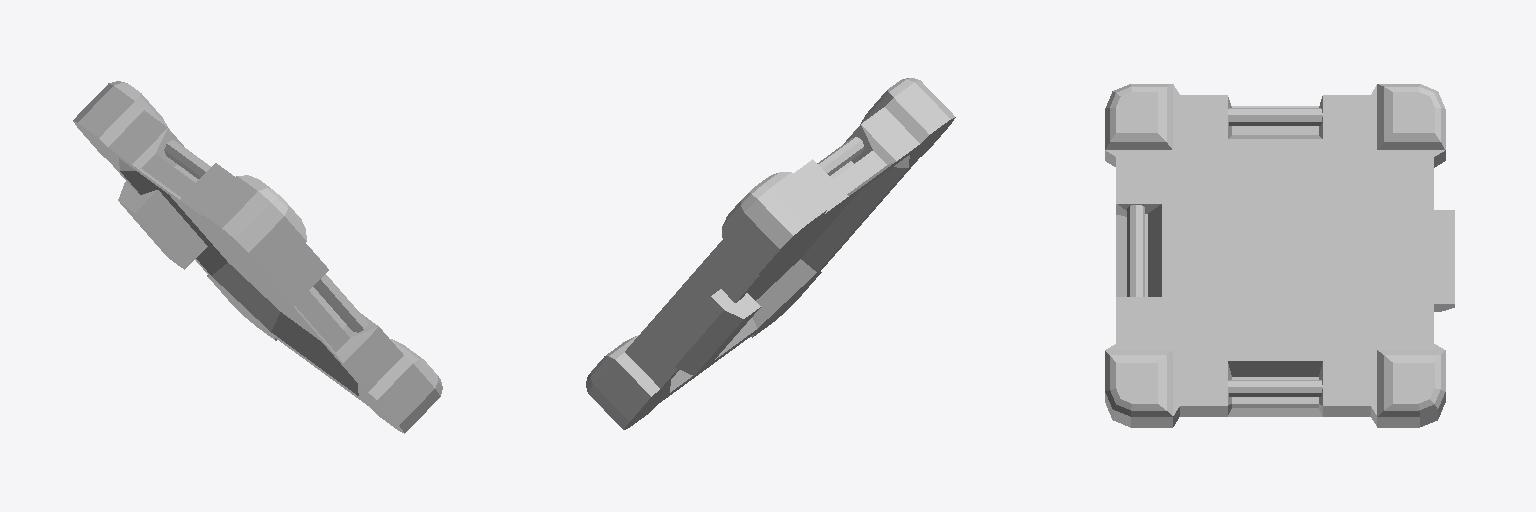
Rendered from Lootbox_Top_Cube_002.obj.
3 views of the same model, side by side, from view 1: azimuth 30°, elevation 25°; view 2: azimuth 150°, elevation 25°; view 3: azimuth 270°, elevation 25° (orthographic).
Parts seen in each view (by area): view 1: Lootbox_Top_Cube.002; view 2: Lootbox_Top_Cube.002; view 3: Lootbox_Top_Cube.002.
Boxes of the visible parts, <box> form: Lootbox_Top_Cube.002: <box>73,81,442,433</box>; Lootbox_Top_Cube.002: <box>586,78,955,429</box>; Lootbox_Top_Cube.002: <box>1105,84,1454,427</box>.
Size of the model in its own units: 0.4349 by 0.5291 by 0.6081.